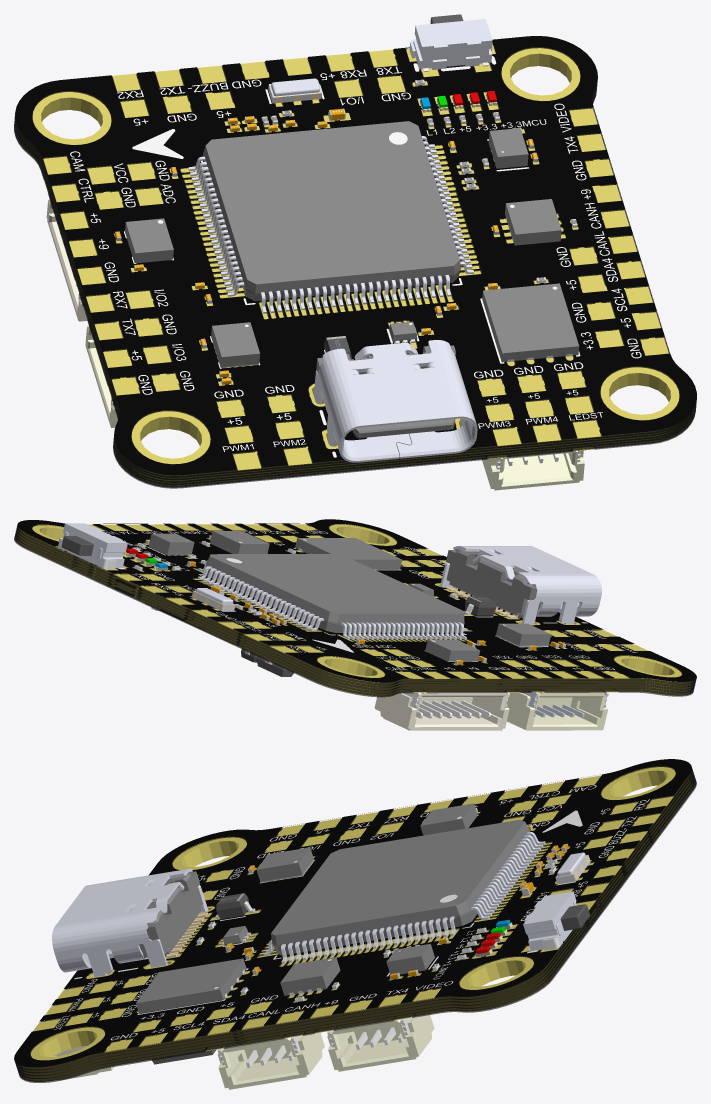
File: flight-controller.glb
3 renders of one model, top to bottom at view 1: azimuth 30°, elevation 25°; view 2: azimuth 150°, elevation 25°; view 3: azimuth 270°, elevation 25°, orthographic. The views are drawn at different scales.
Parts seen in each view (by area): view 1: Solder_Top.005, ComponentBody.4678, ComponentBody.4339, Core.023, Pad.663, GND.005, Top.005, ComponentBody.4689, ComponentBody.4729, ComponentBody.4686, Pad.671, ComponentBody.4662 (+12 smaller); view 2: Solder_Top.005, ComponentBody.4678, GND.005, ComponentBody.4339, Core.023, ComponentBody.4689, ComponentBody.4666, ComponentBody.4722, ComponentBody.4657, Pad.663, Core.025, Core.026 (+16 smaller); view 3: Solder_Top.005, ComponentBody.4678, GND.005, ComponentBody.4339, Pad.663, Core.023, ComponentBody.4689, ComponentBody.4659, ComponentBody.4664, ComponentBody.4729, Top.005, Core.025 (+15 smaller).
Part boxes in pixels (x1,y1,x2,y2): Solder_Top.005: (15,36,696,475); ComponentBody.4678: (203,121,460,301); ComponentBody.4339: (313,340,477,462); Core.023: (15,47,696,477); Pad.663: (32,48,679,464); GND.005: (41,44,673,485); Top.005: (70,56,641,457); ComponentBody.4689: (188,136,473,313); ComponentBody.4729: (482,283,579,361); ComponentBody.4686: (410,19,492,69); Pad.671: (183,145,480,319); ComponentBody.4662: (482,448,584,490); Solder_Top.005: (17,519,696,682); ComponentBody.4678: (206,554,464,632); GND.005: (17,524,692,695); ComponentBody.4339: (440,546,601,624); Core.023: (17,524,696,685); ComponentBody.4689: (197,562,467,639); ComponentBody.4666: (374,692,509,730); ComponentBody.4722: (446,550,541,618); ComponentBody.4657: (506,692,607,730); Pad.663: (32,524,681,677); Core.025: (15,530,695,690); Core.026: (15,532,694,693); Solder_Top.005: (14,759,691,1067); ComponentBody.4678: (271,819,529,955); GND.005: (21,766,692,1080); ComponentBody.4339: (52,868,208,976); Pad.663: (31,767,675,1060); Core.023: (15,766,692,1070); ComponentBody.4689: (263,832,545,963); ComponentBody.4659: (217,1032,324,1089); ComponentBody.4664: (327,1013,434,1071); ComponentBody.4729: (136,958,246,1013); Top.005: (54,785,649,1040); Core.025: (16,772,694,1076).
Bounding box in the file's own units: 4.52 × 1.69 × 4.42.
